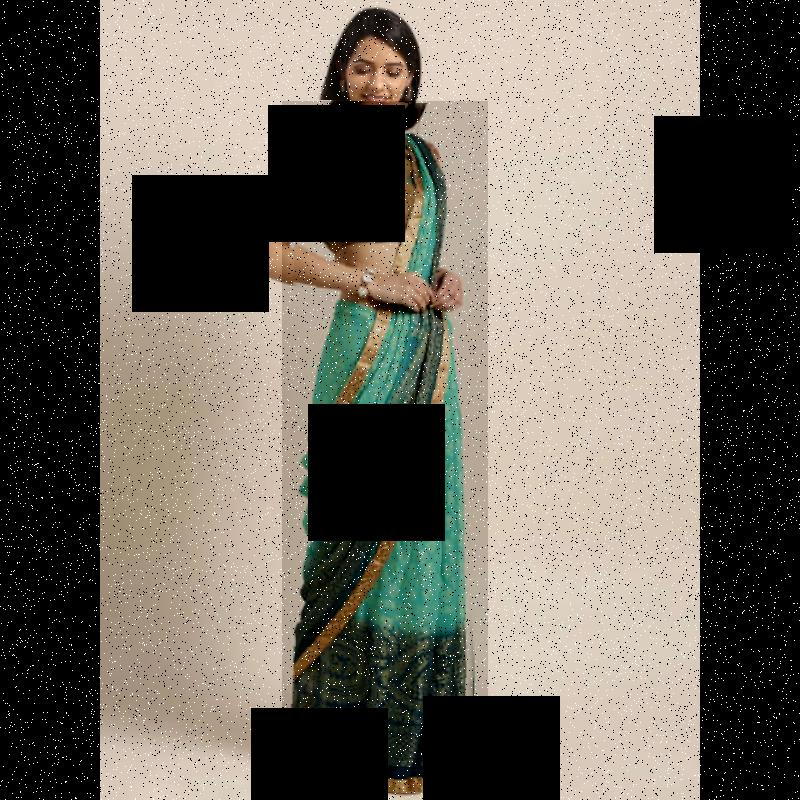Saree: (282, 101, 488, 793)
